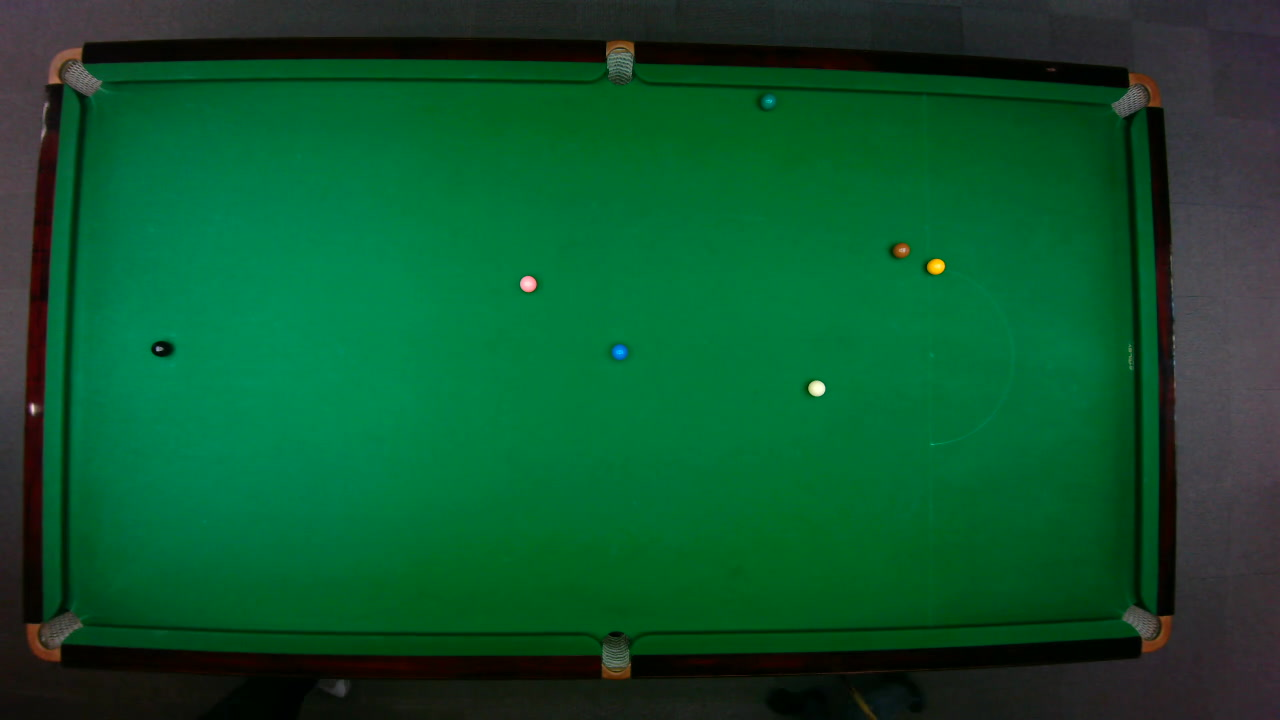bag: (25, 609, 83, 661), (46, 46, 102, 96), (1119, 603, 1172, 652), (1108, 71, 1161, 118), (600, 629, 629, 680), (605, 38, 633, 85)
black: (149, 339, 171, 357)
blue: (610, 342, 628, 360)
brown: (890, 241, 911, 258)
green: (758, 93, 776, 110)
pink: (518, 274, 537, 292)
white: (806, 378, 825, 396)
yellow: (925, 257, 946, 274)
zone: (927, 265, 1013, 445)
